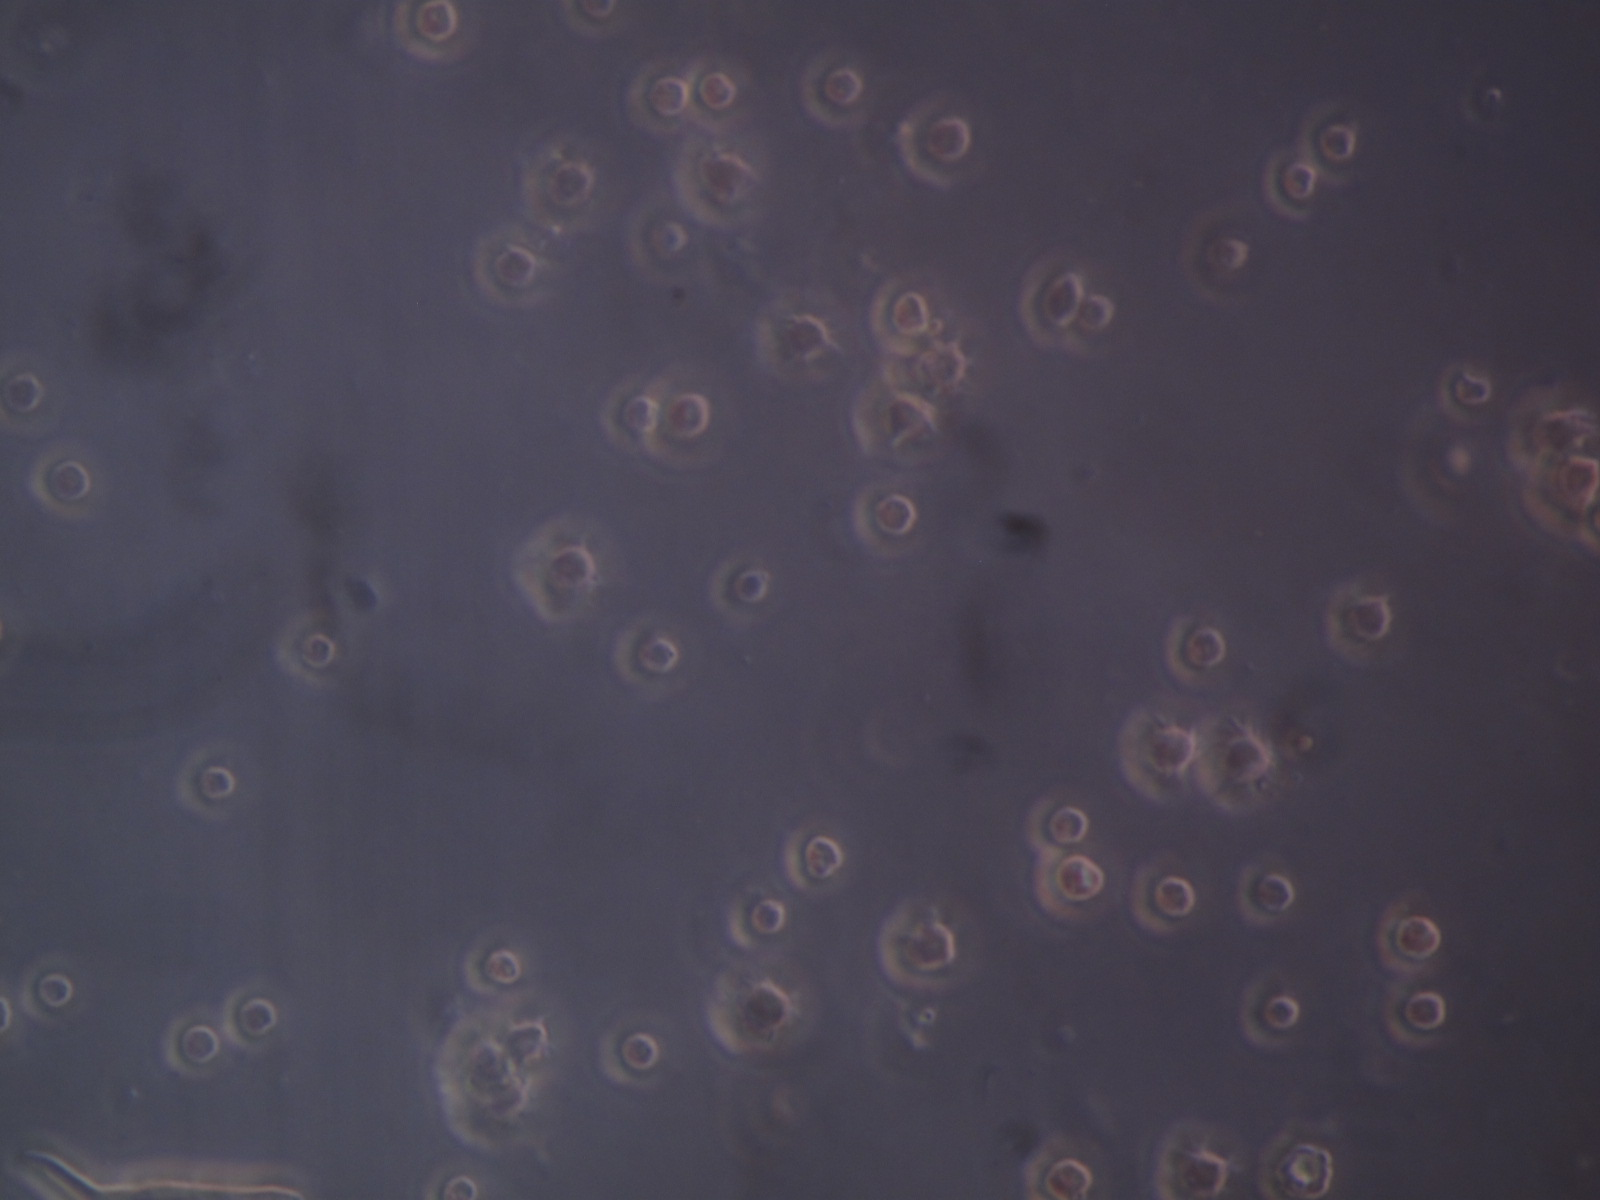hemo: (1397, 408, 1478, 527), (1193, 708, 1269, 811), (1503, 386, 1595, 469), (1519, 445, 1600, 539), (707, 968, 791, 1056), (1119, 710, 1196, 804), (896, 93, 971, 189), (466, 222, 548, 310), (1182, 207, 1252, 309), (675, 139, 753, 229), (878, 903, 957, 991), (522, 142, 598, 232), (1259, 1116, 1340, 1199), (1018, 247, 1082, 353), (517, 545, 600, 621), (1322, 577, 1393, 666), (852, 379, 932, 456), (645, 369, 711, 464), (1155, 1118, 1230, 1200), (437, 1016, 514, 1092), (799, 49, 872, 129), (391, 1, 483, 62), (624, 61, 695, 137), (1033, 847, 1104, 925), (1023, 1132, 1104, 1200), (1380, 973, 1449, 1051), (850, 483, 918, 562), (1299, 101, 1357, 190), (1372, 901, 1441, 976), (1128, 862, 1196, 937), (222, 978, 289, 1054), (174, 747, 241, 823), (753, 301, 830, 367), (20, 952, 88, 1025), (164, 1007, 231, 1082), (869, 277, 930, 359), (1237, 977, 1301, 1053), (627, 202, 690, 279), (683, 57, 747, 131), (29, 446, 94, 518), (597, 1016, 661, 1089), (484, 1000, 553, 1066), (1167, 616, 1228, 691), (784, 821, 845, 895), (614, 619, 680, 687), (600, 377, 659, 453), (707, 556, 770, 626), (276, 619, 340, 684), (1261, 149, 1318, 222), (464, 928, 524, 995), (728, 884, 786, 950), (1236, 861, 1293, 928), (1026, 795, 1094, 851), (1437, 359, 1490, 426), (1071, 292, 1116, 364), (1, 357, 42, 437), (916, 342, 973, 396), (421, 1155, 484, 1200), (557, 1, 627, 40)
